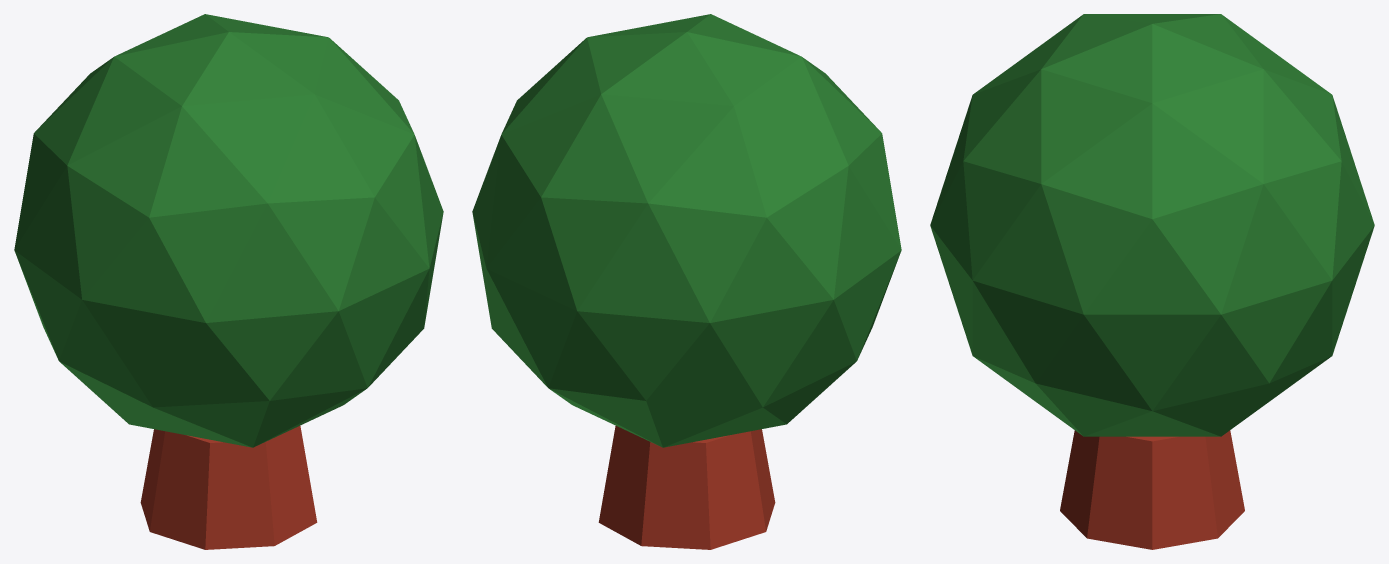
File: hedge_round.glb
The picture shows the model from 3 angles, left to right: view 1: azimuth 30°, elevation 25°; view 2: azimuth 150°, elevation 25°; view 3: azimuth 270°, elevation 25°; orthographic projection.
Visible parts, largest first — view 1: hedge_round; view 2: hedge_round; view 3: hedge_round.
Boxes of the visible parts, x1,y1,x2,y2 form: hedge_round: (14,14,443,549); hedge_round: (472,14,901,549); hedge_round: (930,14,1374,549).
Bounding box in the file's own units: 1.14 × 1.45 × 1.2.
